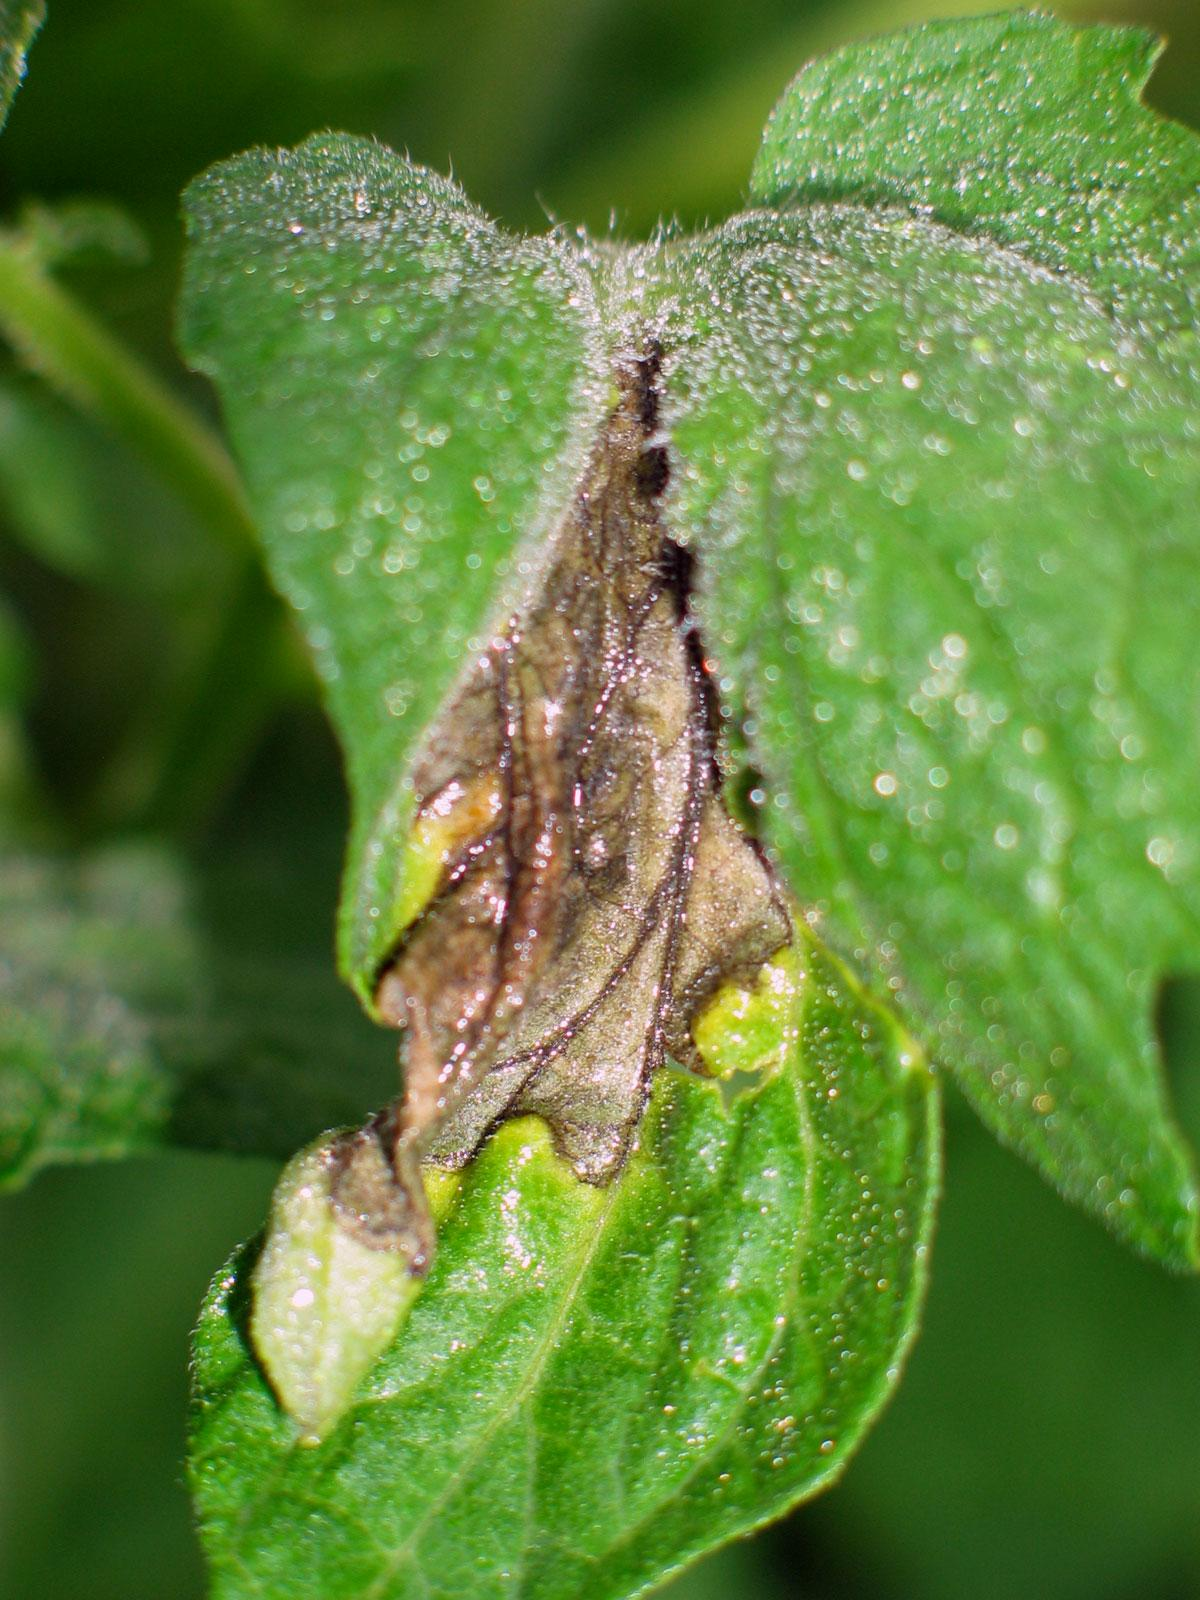Tomato leaf late blight: (131, 58, 1180, 1563)
